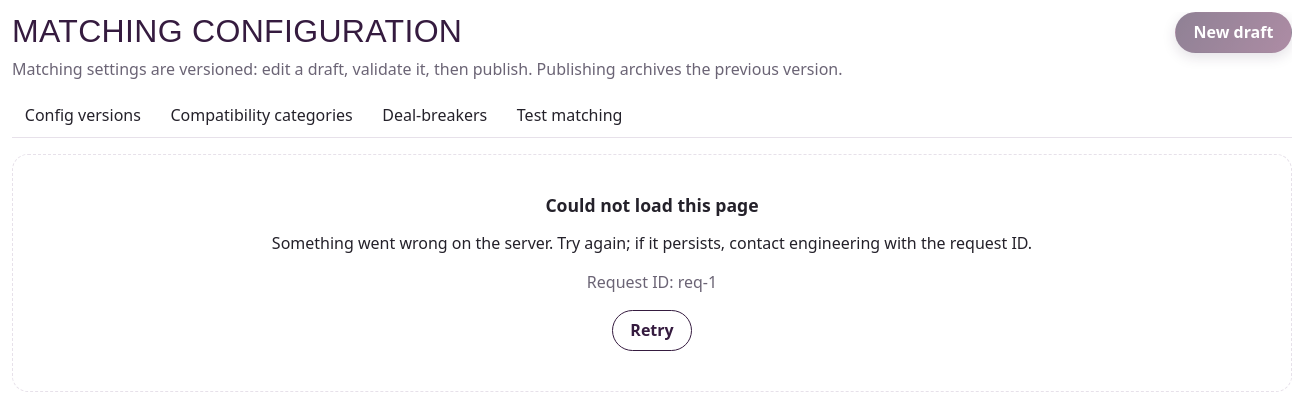
it: ConfigVersionsPage › shows an error with retry
Check: the text "Something went wrong on the server. Try again; if it persists, contact engineering with the request ID." is shown, box x1=272 y1=232 x2=1032 y2=254
Click the button "Retry" at (652, 331), box x1=612 y1=310 x2=692 y2=351
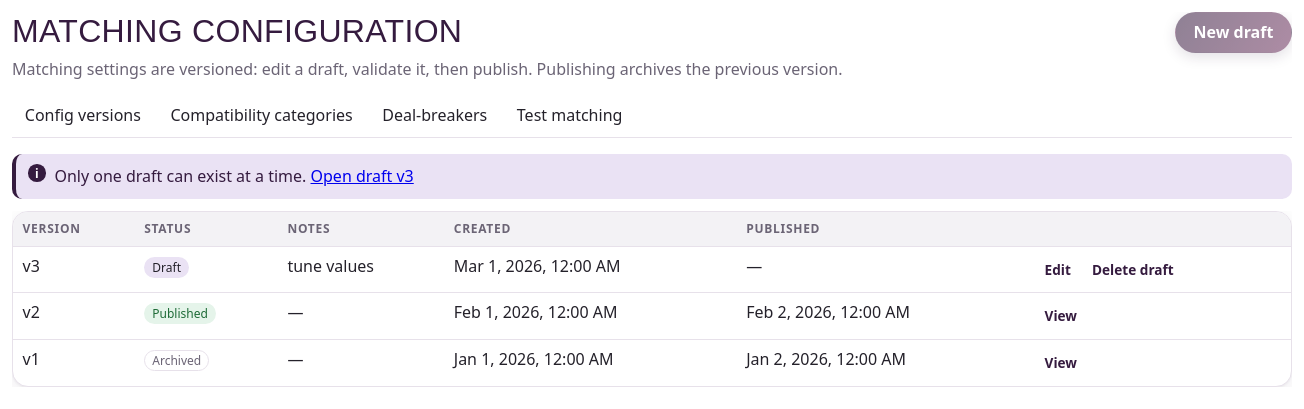
Check: the text "v3" is shown, box x1=13 y1=246 x2=134 y2=293
